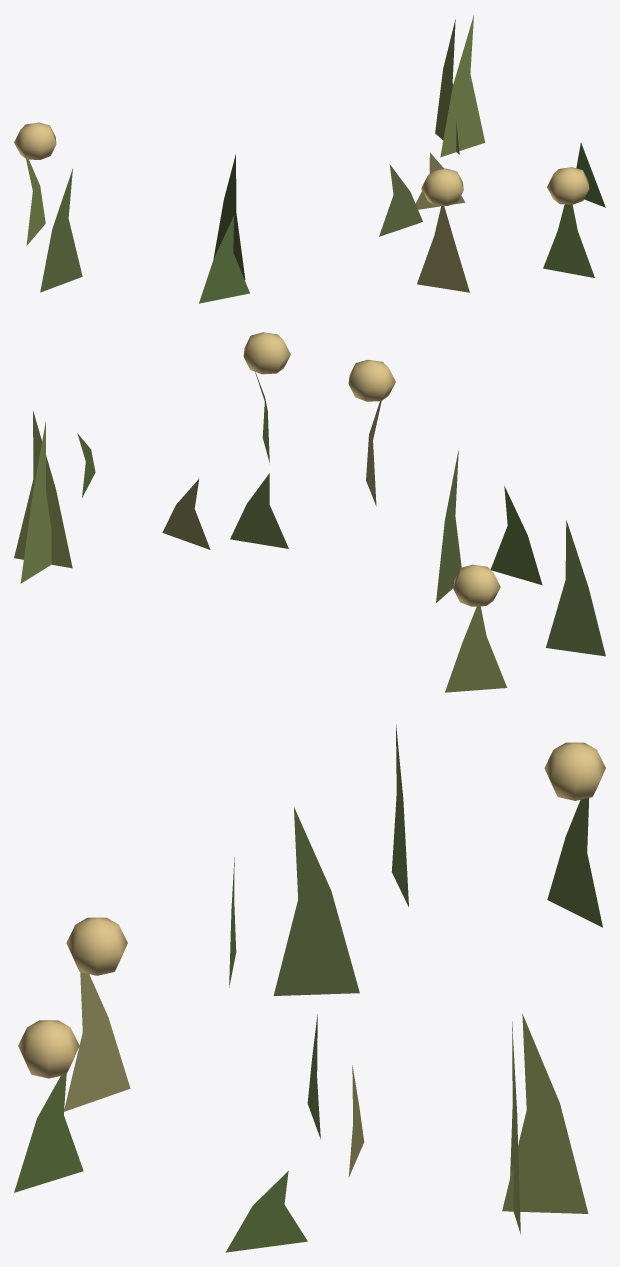
File: meadow.glb
3 views of the same model, one above another, from view 1: azimuth 30°, elevation 25°; view 2: azimuth 150°, elevation 25°; view 3: azimuth 270°, elevation 25° (orthographic). The views are drawn at different scales.
Parts seen in each view (by area): view 1: Meadow; view 2: Meadow; view 3: Meadow.
Boxes of the visible parts, x1=… form: Meadow: x1=14, y1=15, x2=605, y2=303; Meadow: x1=14, y1=332, x2=605, y2=692; Meadow: x1=14, y1=724, x2=605, y2=1252.
Bounding box in the file's own units: 1.23 × 0.3071 × 0.806.
